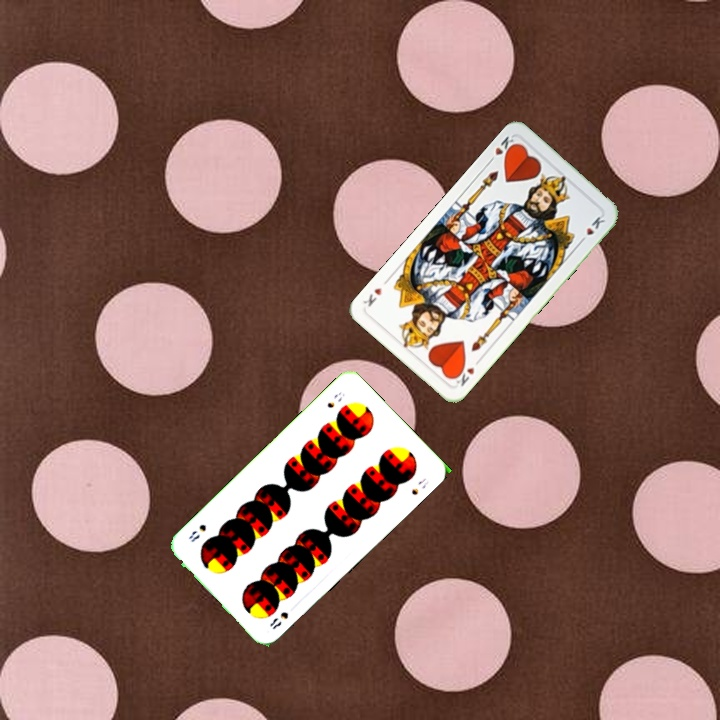HK: (484, 132, 519, 166), (450, 361, 477, 389)
S8: (266, 608, 291, 632), (323, 388, 348, 411)
